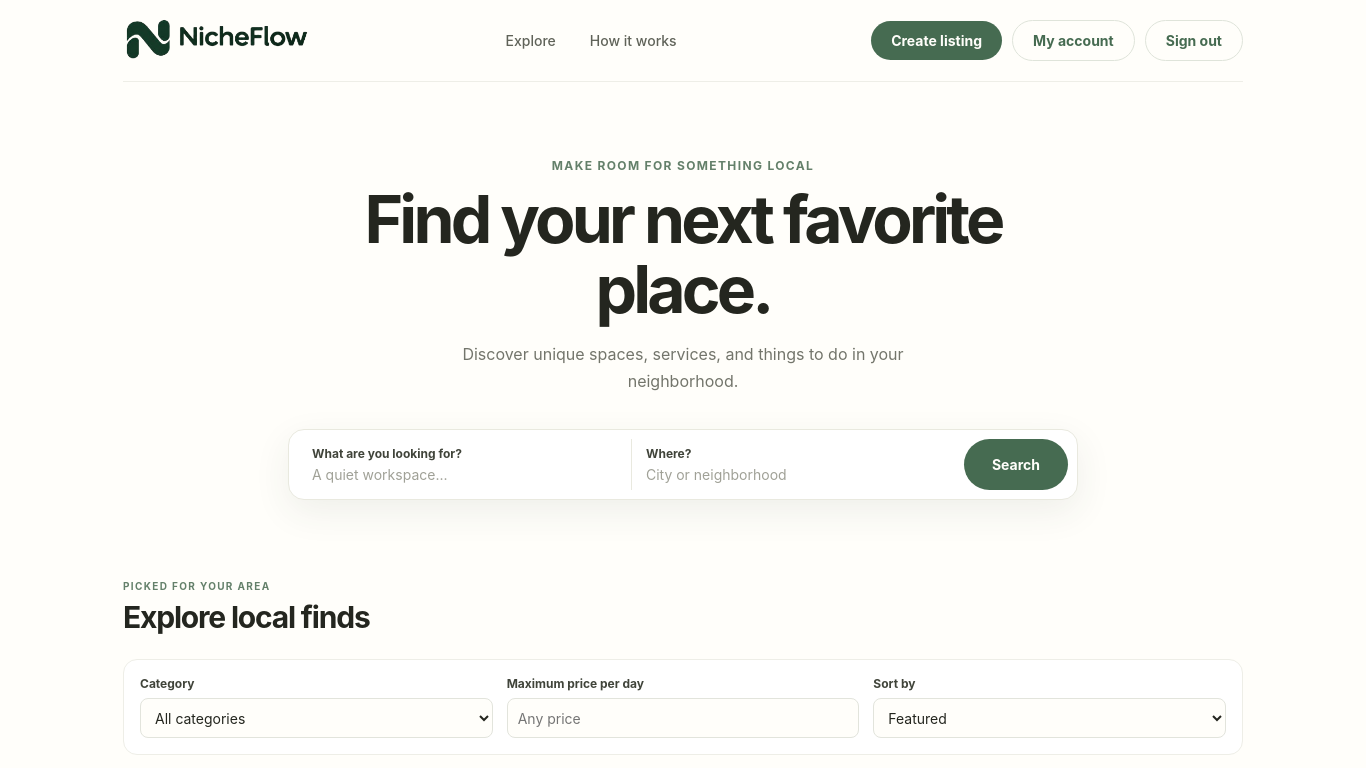
Test: NicheFlow landing page › shows no-reviews-yet standing for a first-time customer request
Click the link "My account" at (1073, 40), box [1012, 20, 1135, 61]
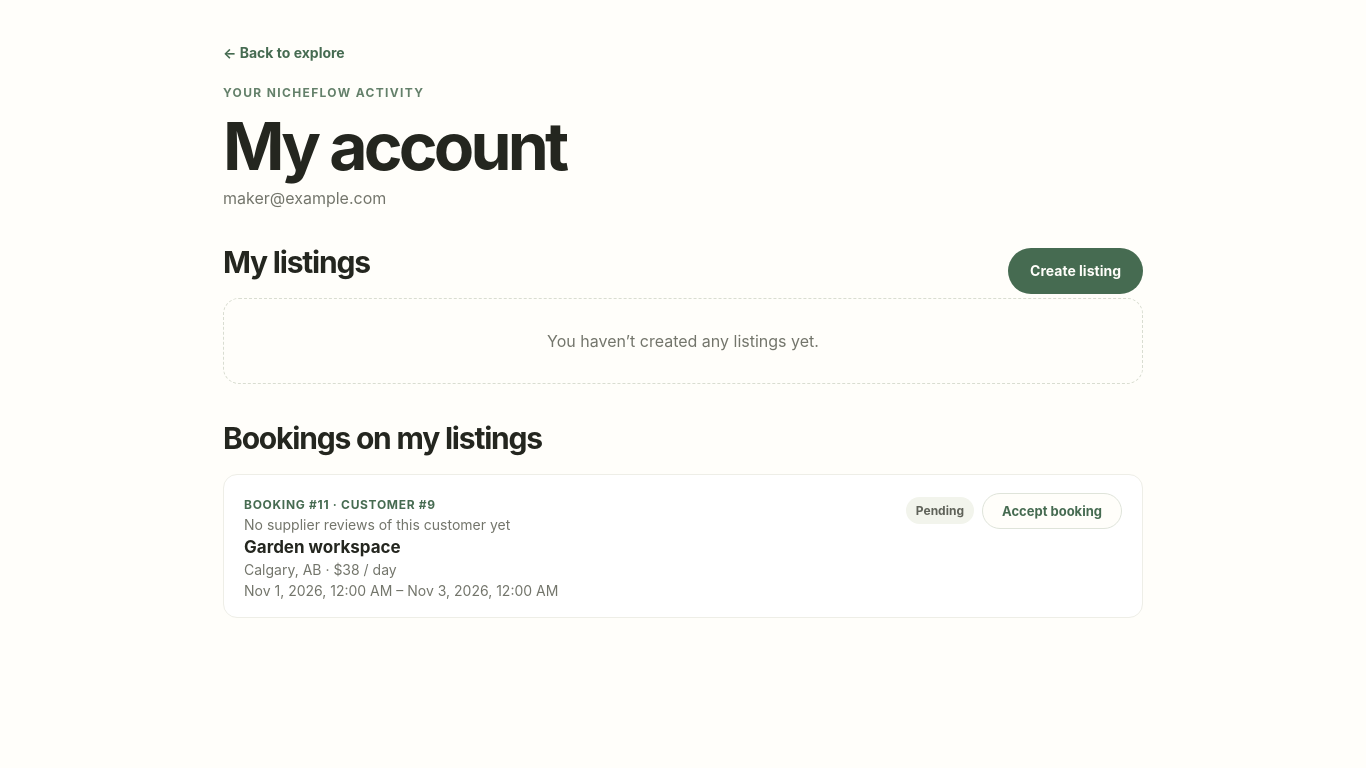
Check: the text "No supplier reviews of this customer yet" is shown, box [244, 516, 510, 533]
